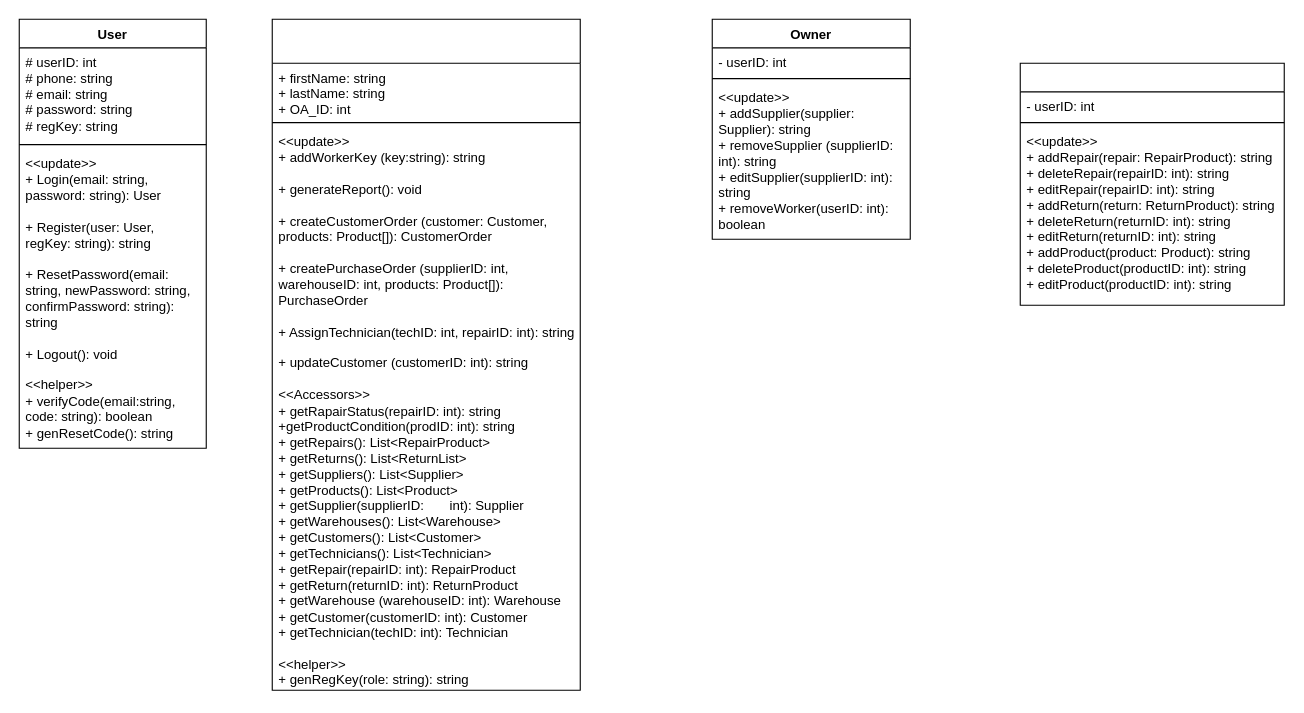
Image size: 1304x713. Some labels were removed from this diagram. The shapes that lost their labels are listed below. From the top down, each one's box as (x1, y1, x2, y2) in pixels, then its label:
(1019, 62, 1284, 305): Assistant
(271, 18, 580, 690): <<Interface>> IAdmin
